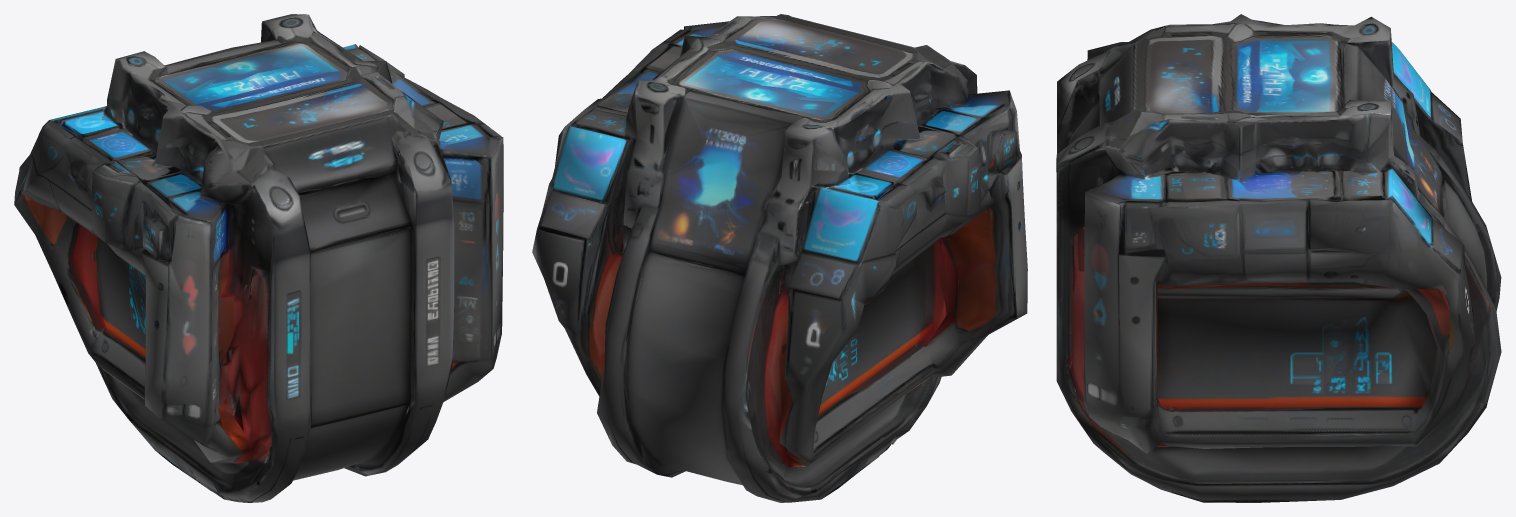
The model's file is Futuristic_Wearable_D_0412093455_texture.glb.
The picture shows the model from 3 angles, left to right: view 1: azimuth 30°, elevation 25°; view 2: azimuth 150°, elevation 25°; view 3: azimuth 270°, elevation 25°; orthographic projection. The views are drawn at different scales.
Bounding box in the file's own units: 1.91 × 2 × 2.
1 material, 1 textured.
